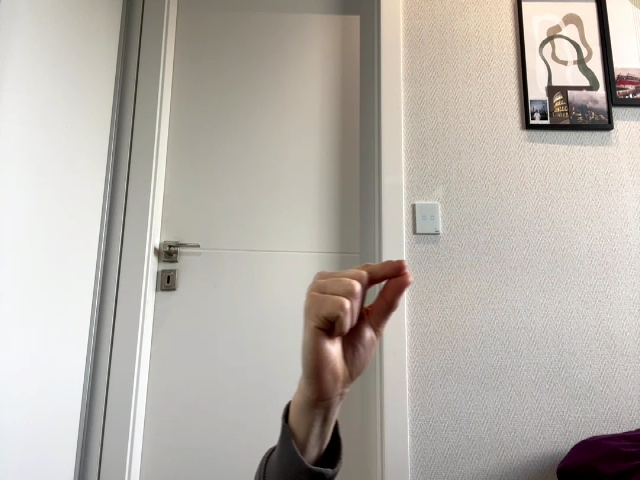P: (302, 260, 413, 396)
